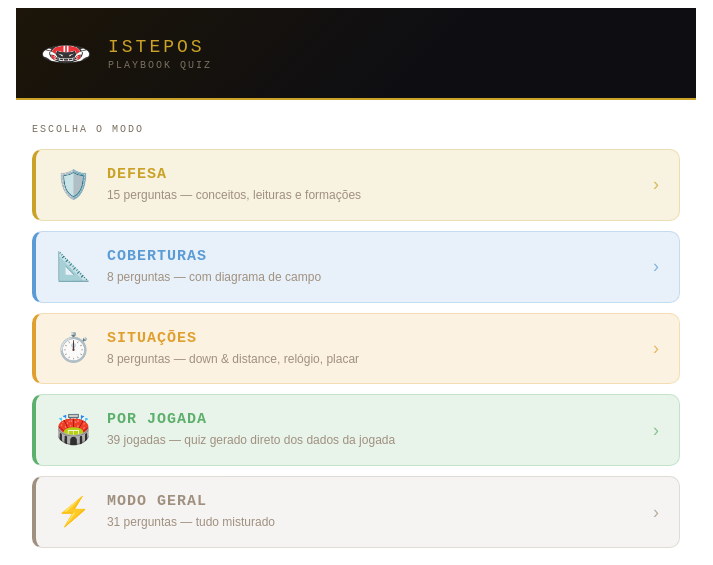
Test: QuizTab › clicar em Defesa leva para a tela de quiz
This screenshot has width=713, height=565.
Click the text "DEFESA".
click(137, 174)  # box top-left (107, 166), bottom-right (167, 183)
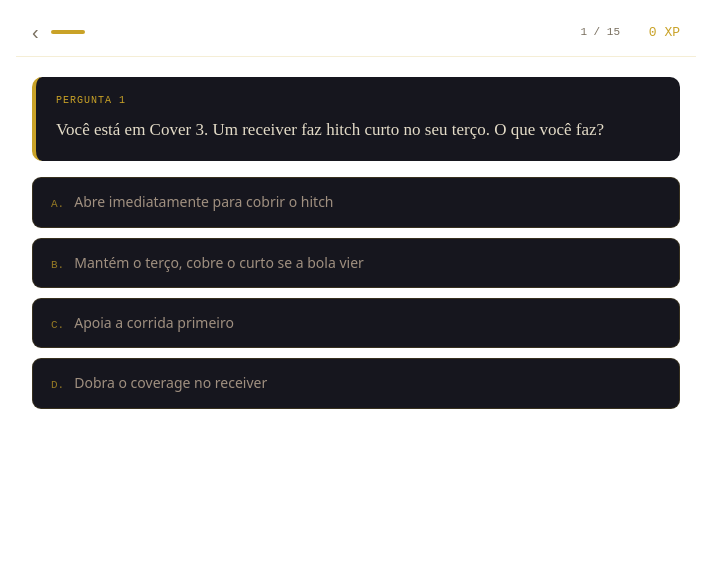
Now the text "1 / 15" is shown, box top-left (580, 26), bottom-right (620, 38)
